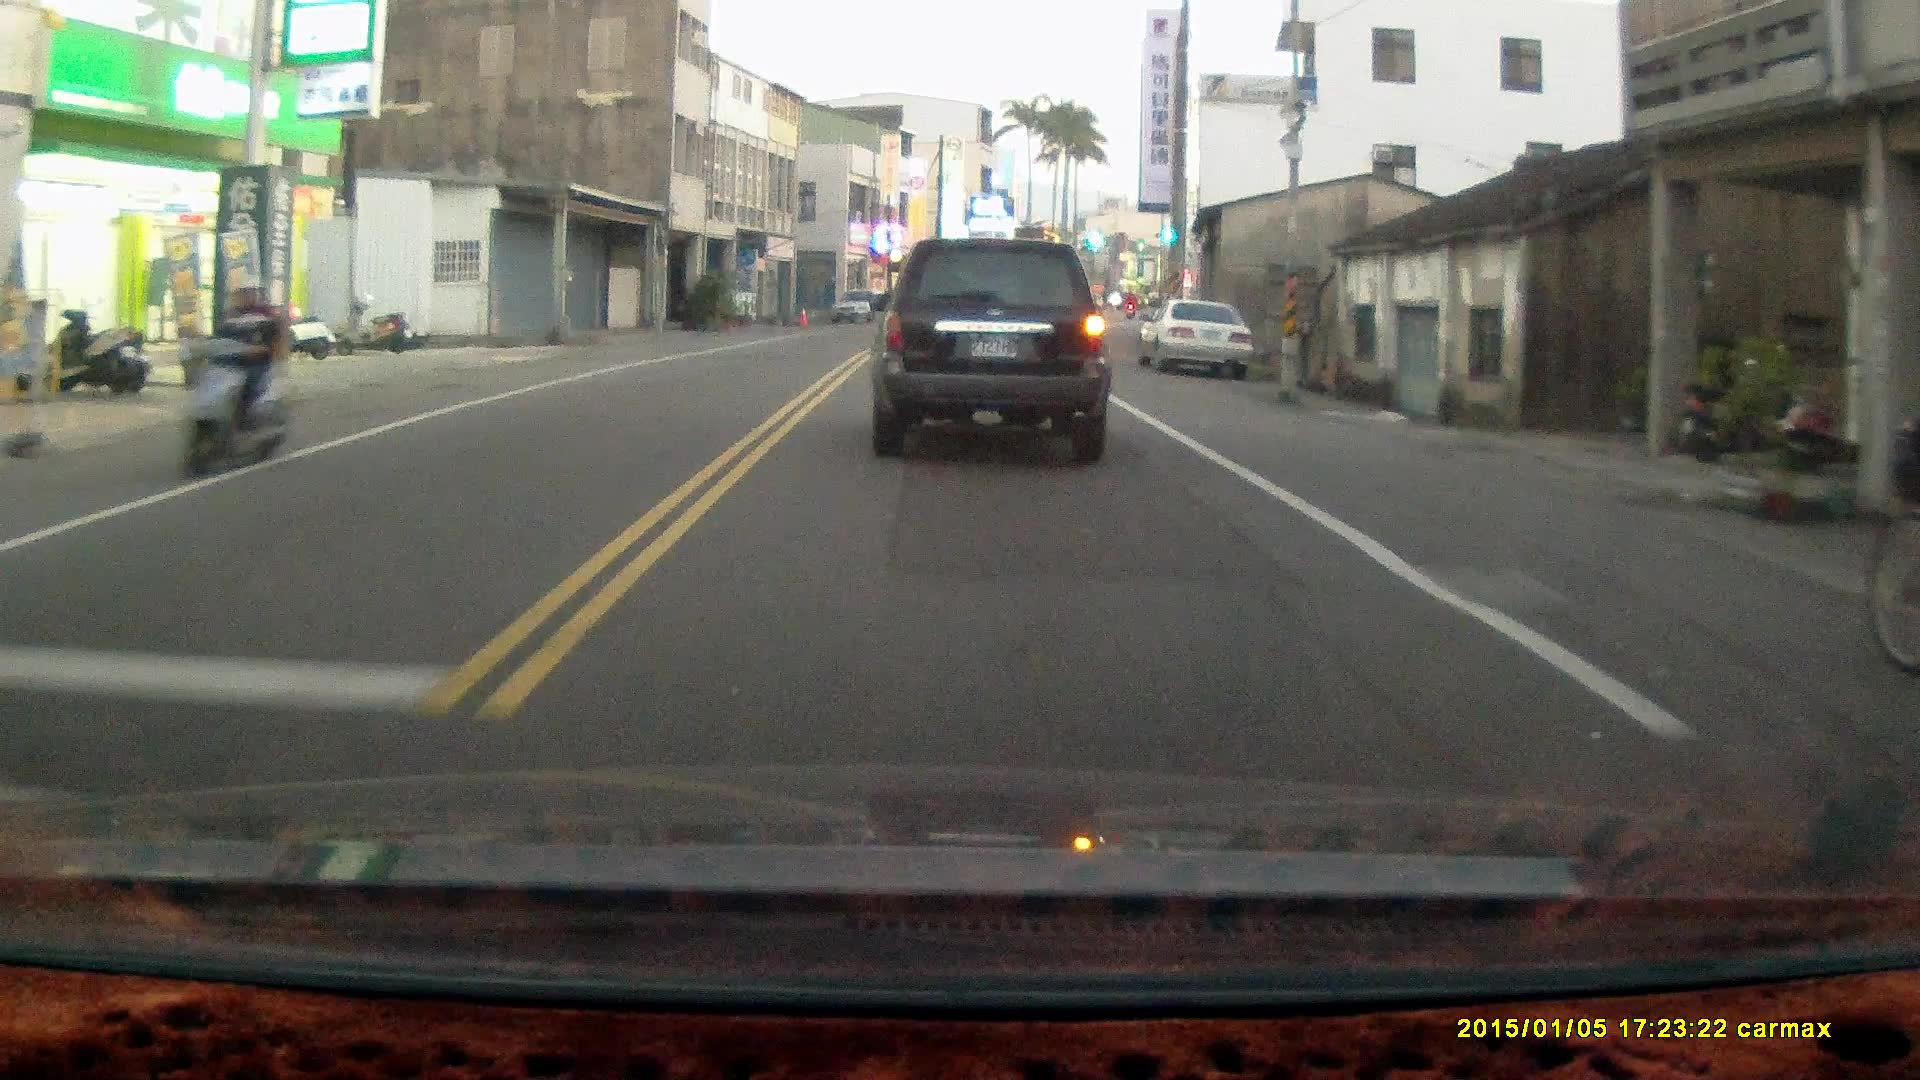rider: (176, 272, 289, 484)
vehicle: (871, 232, 1116, 460), (1140, 301, 1252, 379)
